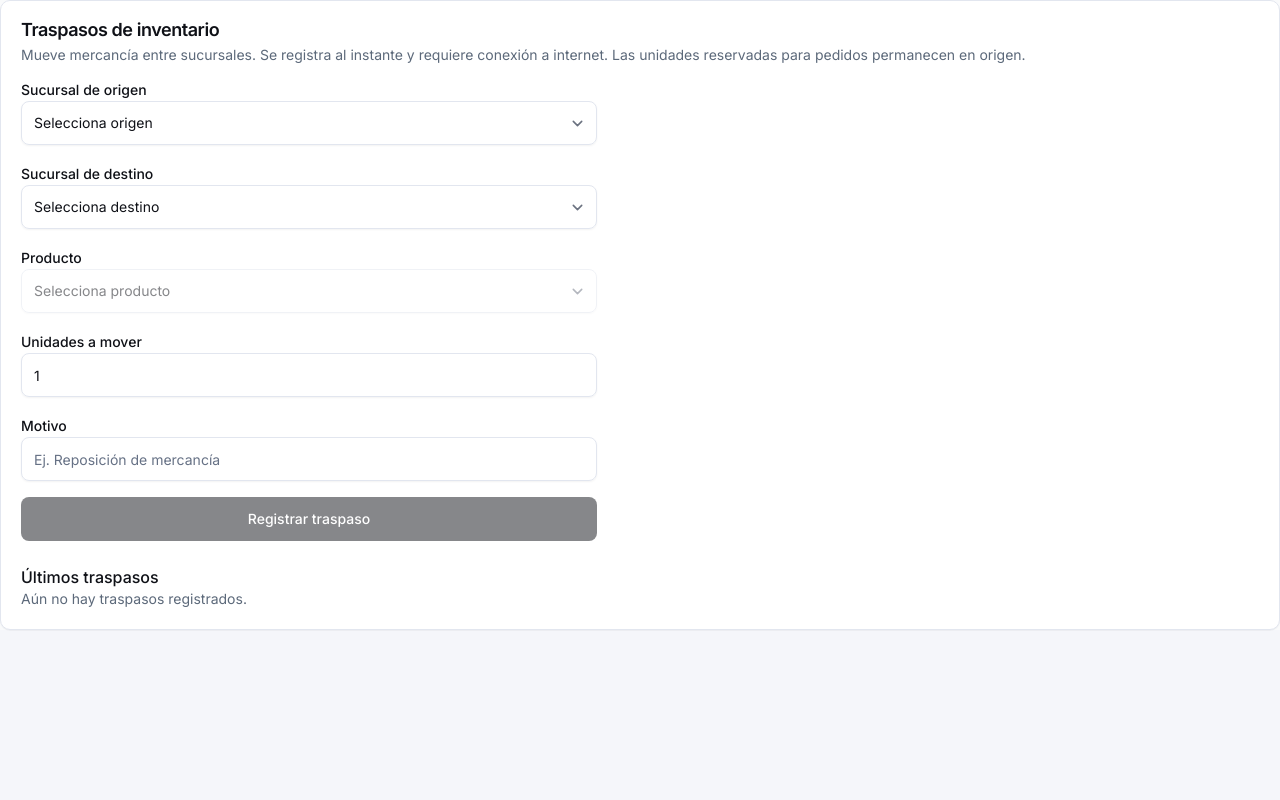
Test: keeps a retry's idempotency key after a lost connection
This screenshot has width=1280, height=800.
Select "source" in the dropdown labelled "Sucursal de origen". click: (309, 123)
box: x1=21 y1=101 x2=597 y2=145
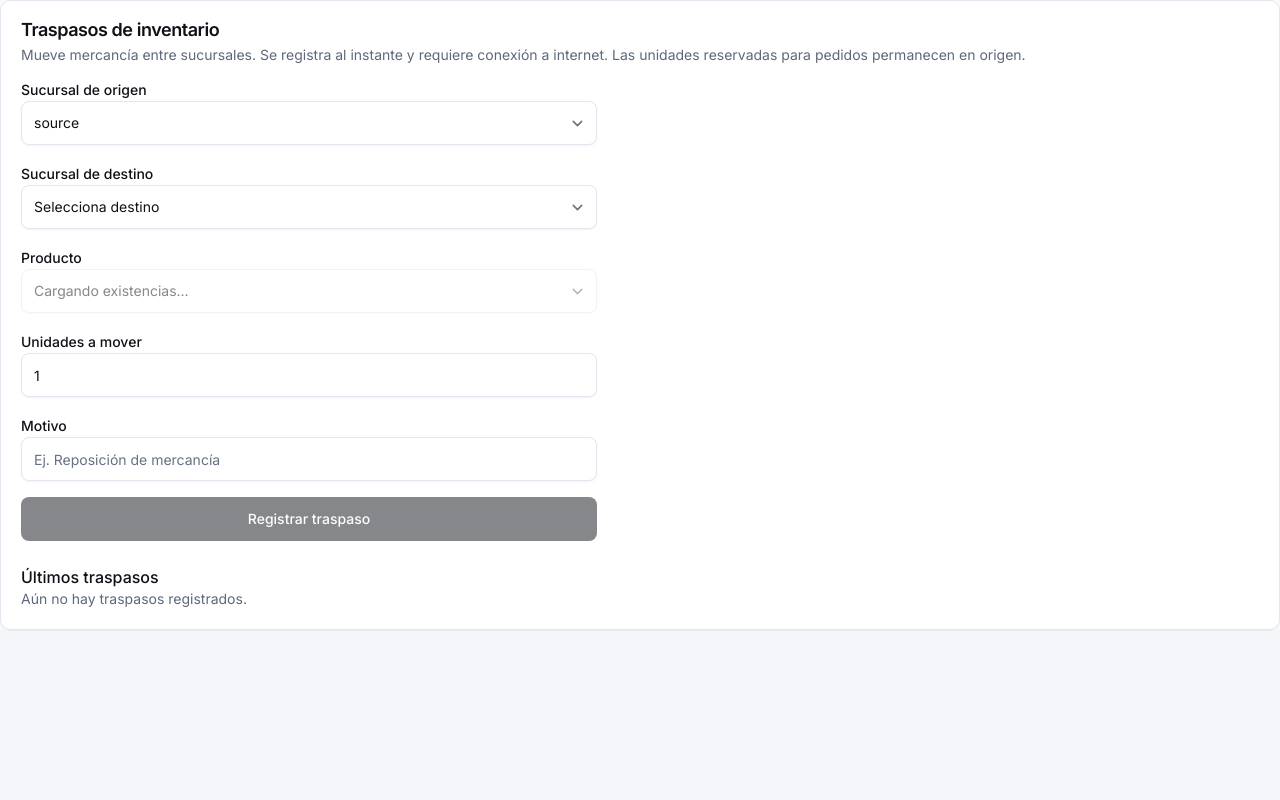
Select "destination" in the dropdown labelled "Sucursal de destino". click: (309, 207)
box: x1=21 y1=185 x2=597 y2=229
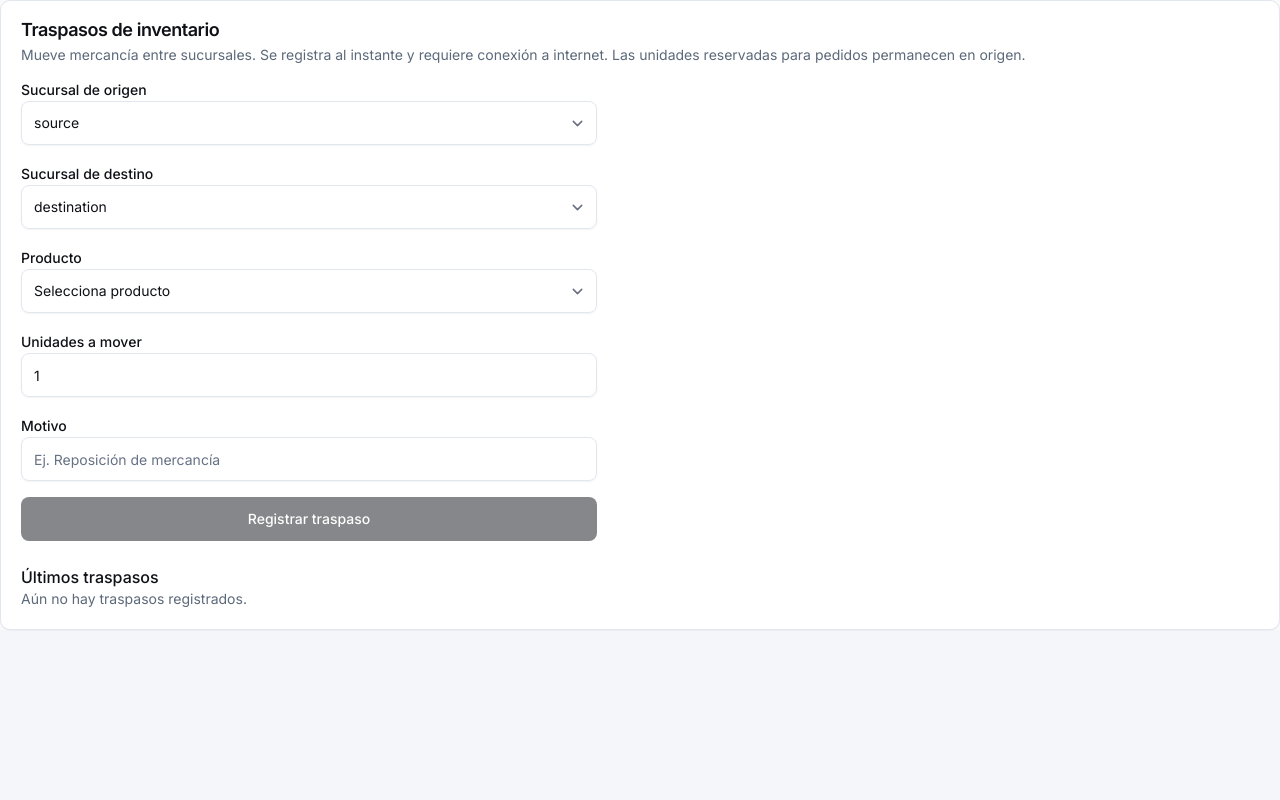
Select "Pan · 10 disponibles" in the dropdown labelled "Producto". click: (309, 291)
box: x1=21 y1=269 x2=597 y2=313
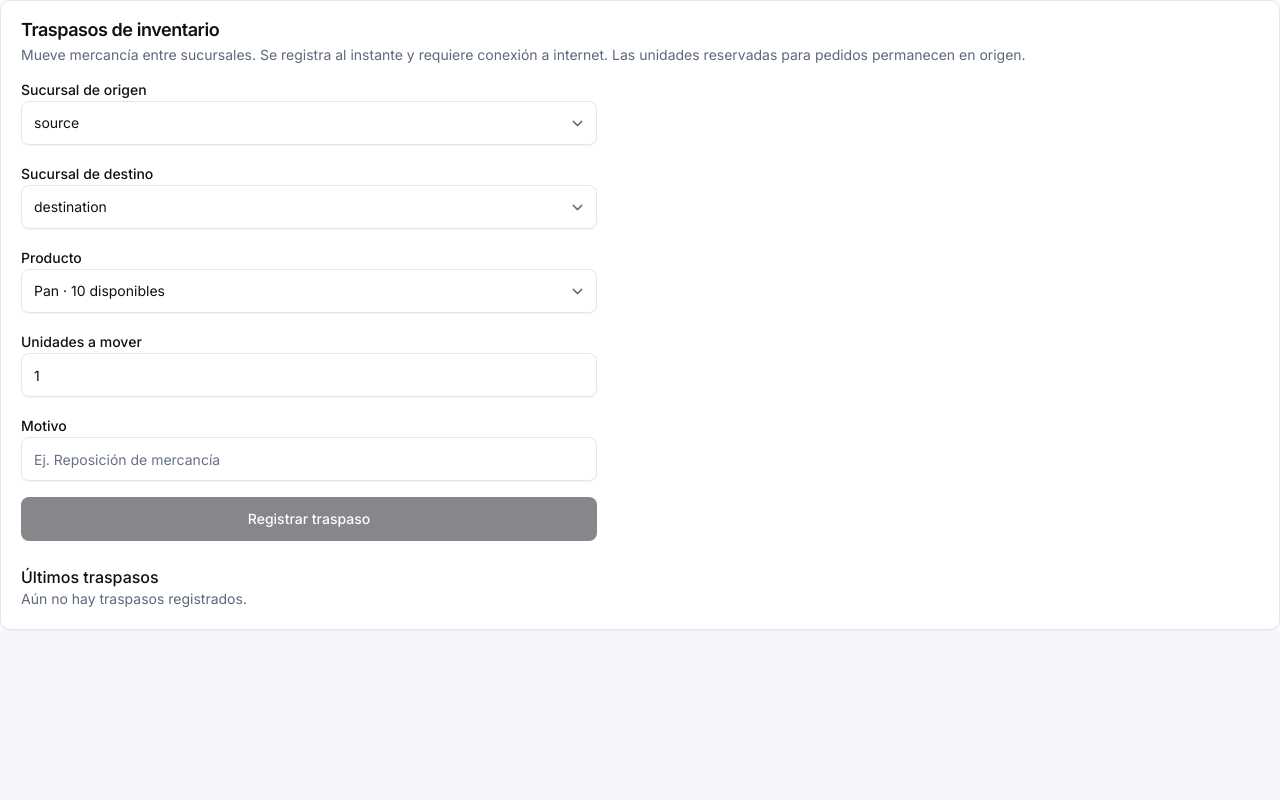
Type "Reposición" into the field labelled "Motivo". click: (309, 459)
box: x1=21 y1=437 x2=597 y2=481
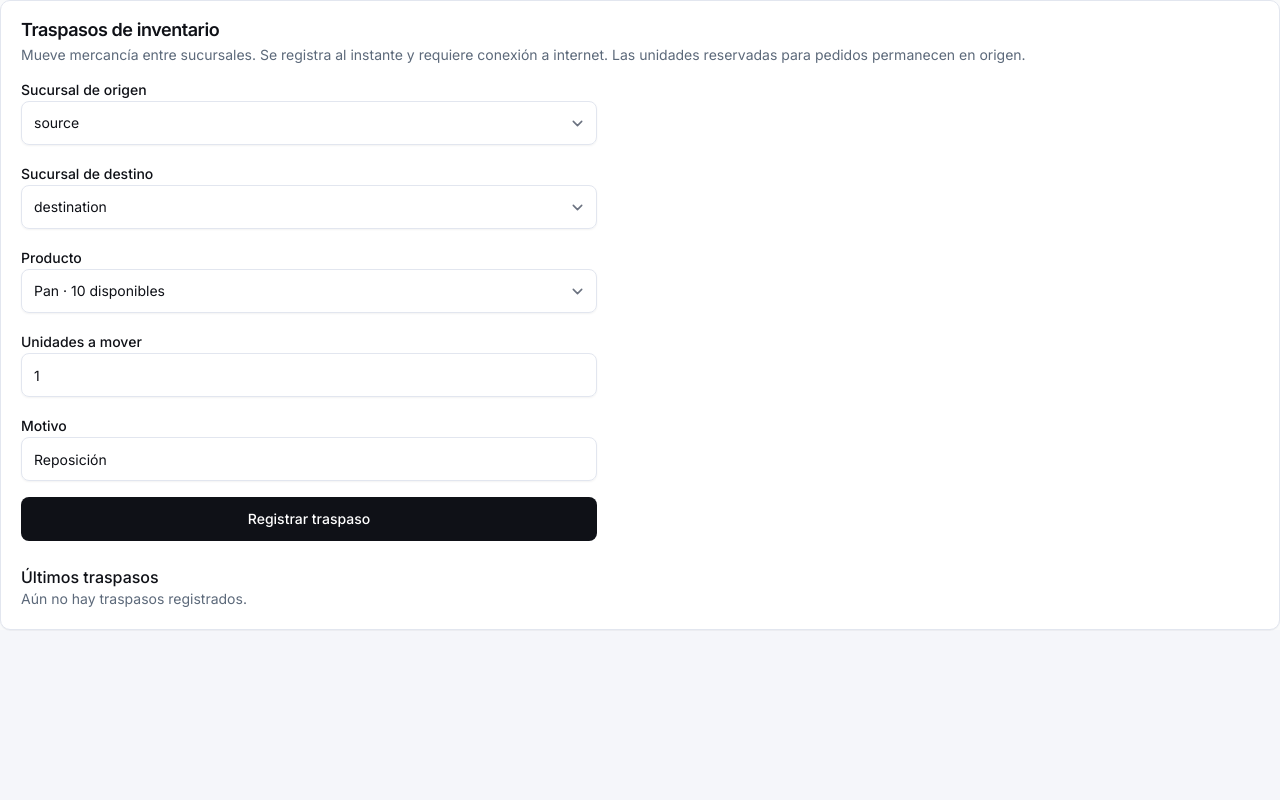
Click the button "Registrar traspaso". click: click(309, 519)
box: x1=21 y1=497 x2=597 y2=541
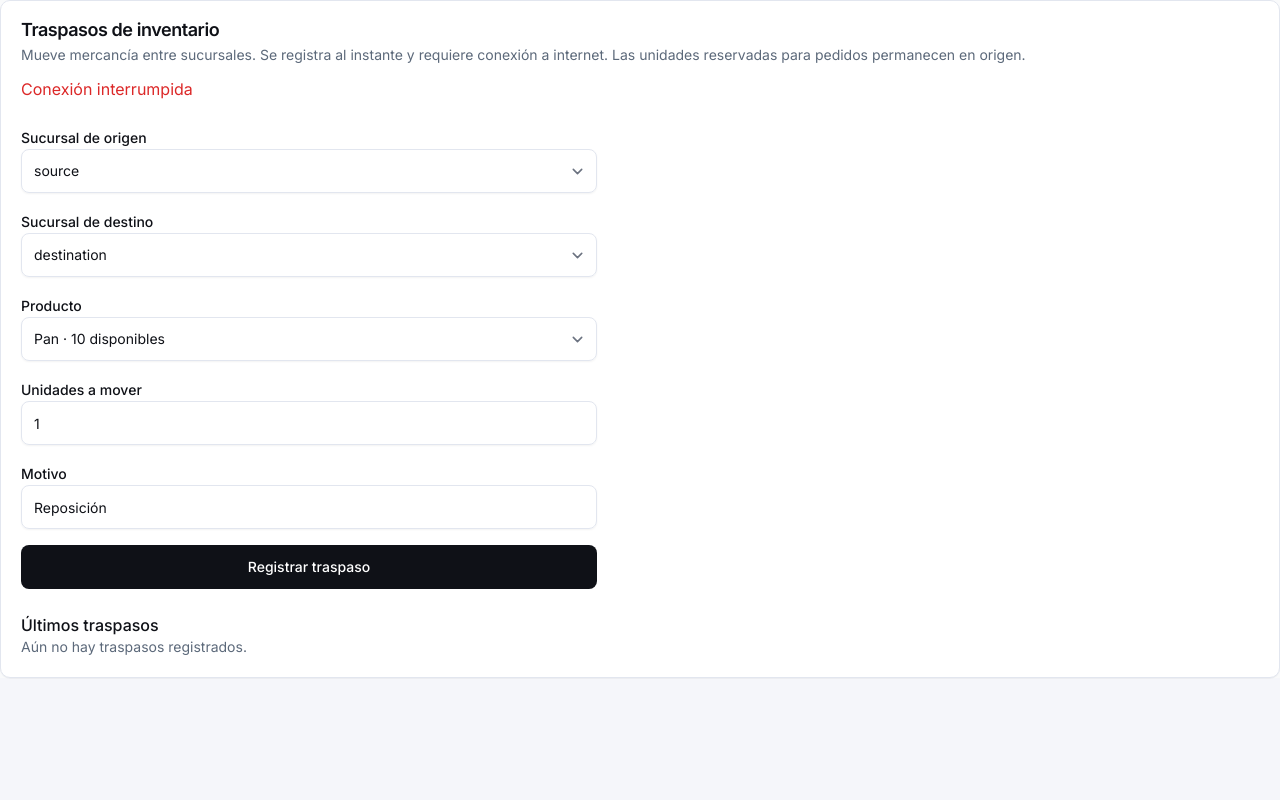
Check: the text "Conexión interrumpida" is shown, box x1=21 y1=79 x2=193 y2=99
Click the button "Registrar traspaso". click: click(309, 567)
box: x1=21 y1=545 x2=597 y2=589
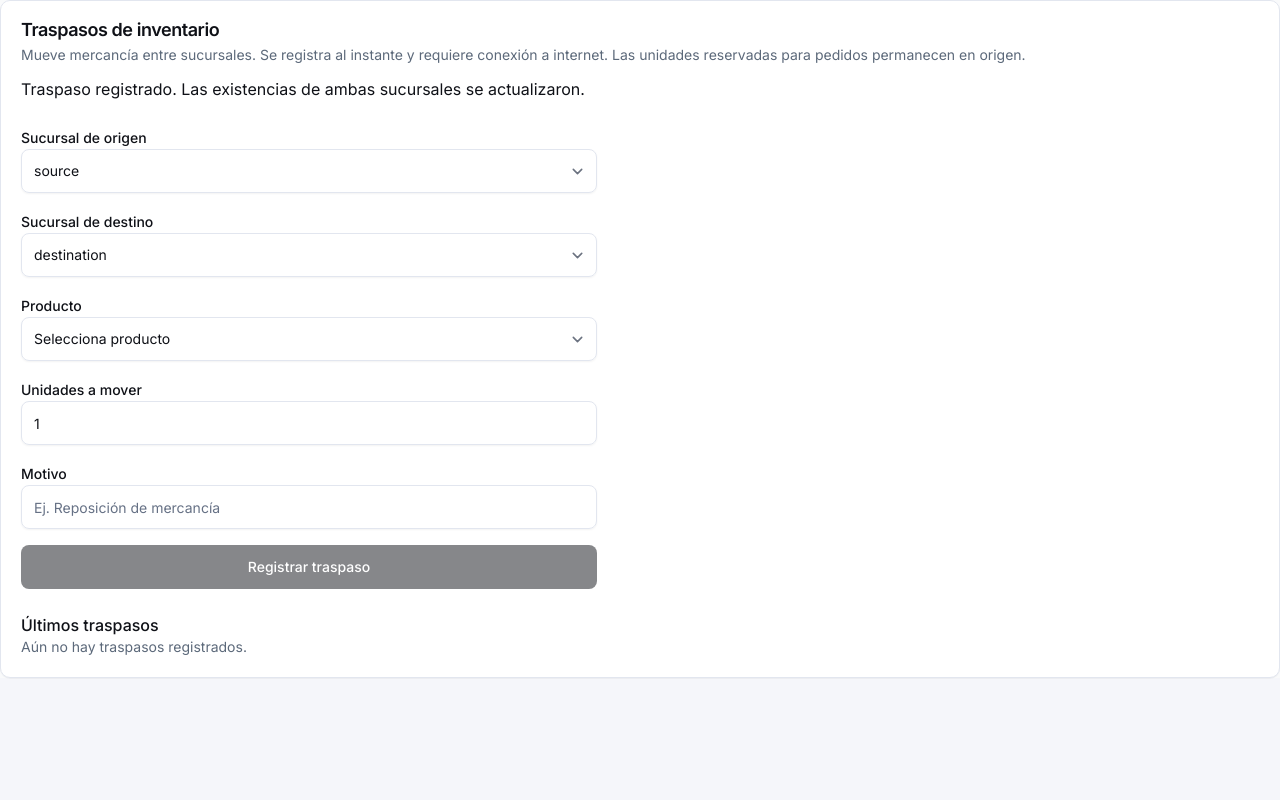
Check: the text "Traspaso registrado. Las existencias de ambas sucursales se actualizaron." is shown, box x1=21 y1=79 x2=585 y2=99
